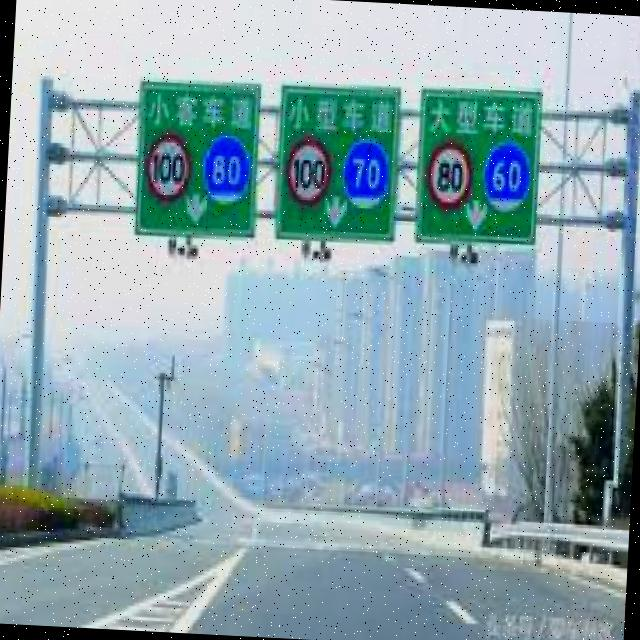Ograniczenie predkosci do 100: (143, 135, 194, 203), (282, 138, 334, 203)
Ograniczenie predkosci do 80: (424, 142, 476, 210)
